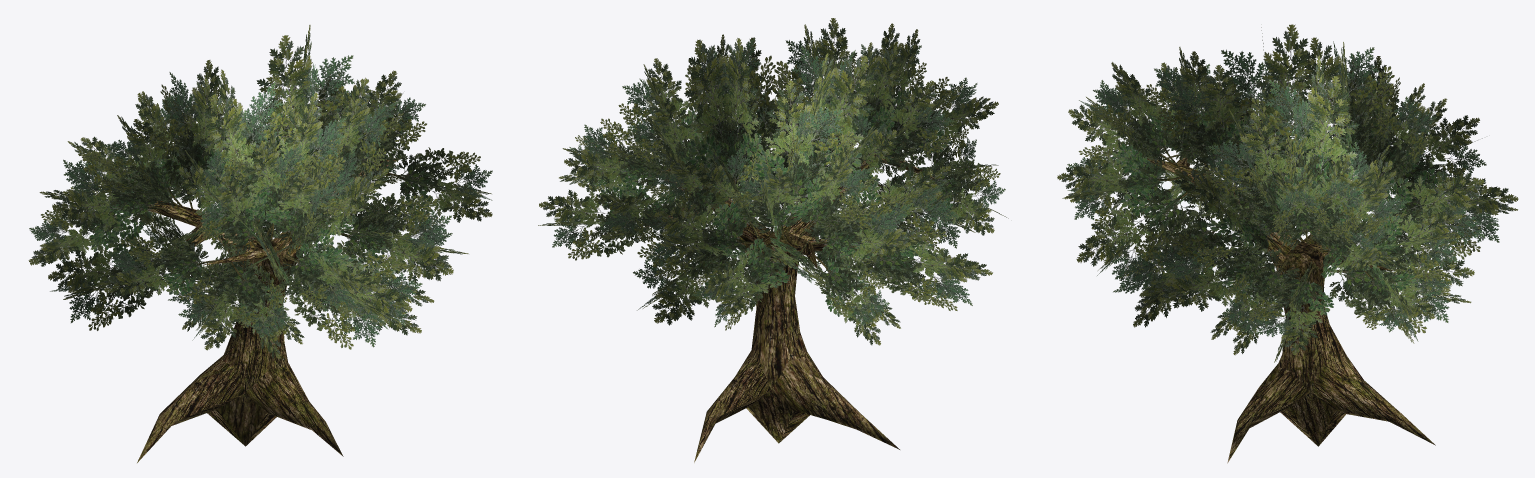
File: oakTree.dae
3 views of the same model, side by side, from view 1: azimuth 30°, elevation 25°; view 2: azimuth 150°, elevation 25°; view 3: azimuth 270°, elevation 25° (orthographic). The views are drawn at different scales.
Parts seen in each view (by area): view 1: Oak; view 2: Oak; view 3: Oak.
Boxes of the visible parts, bbox=[...] form: Oak: bbox=[28, 25, 492, 462]; Oak: bbox=[538, 18, 1008, 462]; Oak: bbox=[1057, 24, 1518, 463].
Bounding box in the file's own units: 1.78 × 1.55 × 1.59.
Materials: 1 (1 with a texture image).
